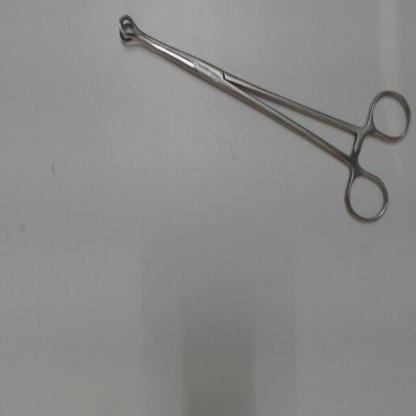8 Babcock Tissue Forceps: (112, 7, 414, 230)
